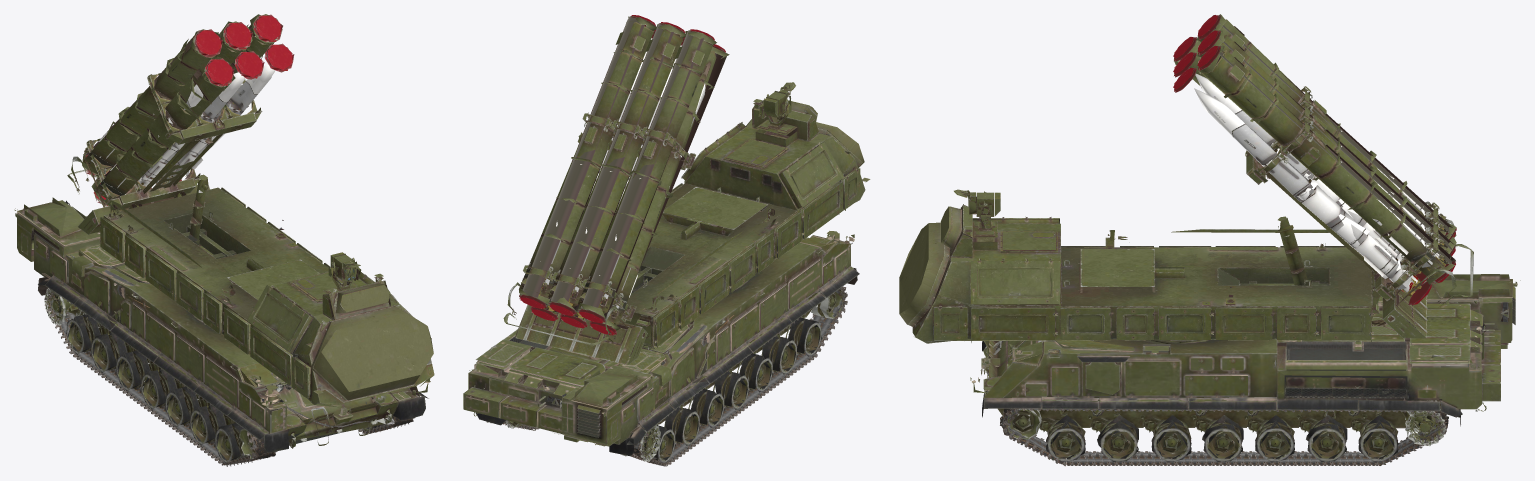
The model's file is mass_anti_air.glb.
3 views of the same model, side by side, from view 1: azimuth 30°, elevation 25°; view 2: azimuth 150°, elevation 25°; view 3: azimuth 270°, elevation 25° (orthographic). The views are drawn at different scales.
Parts seen in each view (by area): view 1: Object_2; view 2: Object_2; view 3: Object_2.
Part boxes in pixels (x1,y1,x2,y2): Object_2: (14, 14, 434, 466); Object_2: (463, 15, 870, 466); Object_2: (899, 14, 1520, 466).
Size of the model in its own units: 2.66 by 5.62 by 8.
Materials: 13 (13 with a texture image).
